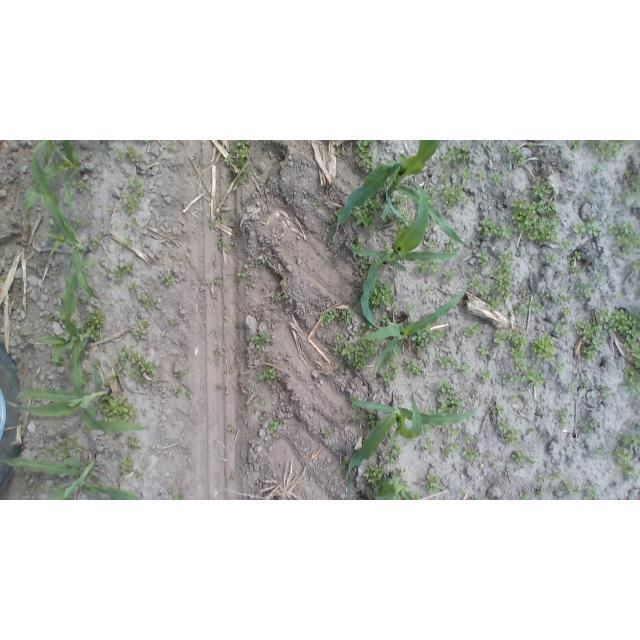Maize: (352, 179, 458, 328), (333, 141, 466, 251), (347, 390, 481, 498), (32, 142, 107, 305), (356, 280, 468, 377), (4, 369, 144, 433), (36, 260, 93, 397), (1, 456, 146, 500), (23, 141, 86, 216), (372, 472, 414, 501)
Weeds: (509, 197, 559, 244), (598, 308, 640, 355), (116, 346, 156, 383), (576, 316, 605, 360), (342, 340, 379, 372), (609, 222, 640, 256), (588, 140, 633, 162), (101, 395, 135, 421), (221, 141, 250, 171), (442, 183, 471, 212), (353, 140, 377, 174), (83, 309, 106, 342), (491, 251, 509, 293), (619, 170, 640, 206), (624, 354, 640, 401), (373, 280, 396, 311), (533, 332, 557, 361), (476, 219, 509, 239), (423, 398, 463, 414), (123, 188, 145, 214), (470, 268, 490, 296), (498, 420, 521, 444), (495, 331, 527, 348), (442, 144, 470, 162), (556, 296, 574, 323), (522, 366, 545, 387), (354, 206, 375, 228), (414, 329, 437, 348), (531, 182, 553, 201), (113, 261, 135, 280), (423, 471, 441, 494), (249, 331, 272, 349), (511, 448, 535, 465), (509, 144, 525, 168), (438, 356, 460, 373), (567, 251, 582, 275), (403, 360, 423, 378), (365, 463, 383, 483), (225, 174, 252, 187), (553, 318, 571, 337), (379, 370, 397, 388), (321, 309, 339, 327), (562, 481, 579, 499), (441, 443, 459, 460), (587, 217, 601, 238), (618, 433, 640, 446), (597, 385, 616, 400), (618, 463, 637, 478), (138, 295, 158, 309), (439, 379, 457, 394), (119, 456, 134, 474), (259, 367, 275, 383), (463, 447, 480, 462), (578, 284, 594, 299), (556, 409, 568, 429), (616, 445, 633, 459), (510, 349, 525, 364), (424, 438, 439, 453), (476, 248, 490, 264), (465, 322, 479, 338), (488, 297, 504, 311), (445, 425, 459, 441), (445, 239, 460, 253), (126, 146, 140, 161), (461, 167, 472, 186), (592, 272, 607, 285), (129, 177, 146, 188), (162, 273, 176, 286), (399, 206, 411, 221), (268, 417, 280, 432), (392, 443, 407, 455), (529, 301, 545, 312), (427, 188, 437, 205), (107, 368, 117, 385), (560, 236, 572, 250), (416, 261, 428, 275), (461, 363, 473, 377), (367, 199, 381, 211), (341, 309, 352, 324), (169, 489, 184, 500), (389, 194, 407, 203), (125, 436, 137, 449), (511, 304, 525, 315), (475, 346, 489, 357), (387, 354, 397, 369), (491, 174, 503, 186), (443, 271, 455, 283), (132, 326, 144, 338), (552, 363, 565, 374), (433, 331, 447, 341), (88, 237, 98, 251), (583, 487, 597, 497), (366, 415, 376, 429), (251, 257, 265, 267), (117, 149, 126, 164), (405, 304, 416, 316), (588, 418, 600, 429), (396, 467, 409, 477), (321, 427, 331, 440), (575, 223, 586, 234), (431, 261, 442, 272), (80, 351, 91, 362), (545, 252, 555, 264), (128, 368, 138, 380), (551, 472, 564, 481), (132, 218, 141, 231), (330, 253, 338, 267), (476, 169, 486, 180), (437, 172, 448, 182), (509, 373, 519, 384), (465, 434, 475, 445), (77, 182, 87, 193), (139, 319, 149, 330), (386, 453, 397, 463), (591, 166, 602, 176), (632, 258, 640, 271), (561, 306, 571, 316), (426, 242, 437, 251), (519, 287, 530, 296), (583, 379, 592, 390), (482, 369, 491, 380), (61, 450, 72, 459), (75, 216, 86, 225), (520, 492, 531, 501), (130, 282, 139, 293), (582, 191, 593, 200), (217, 238, 224, 251), (570, 383, 579, 393), (331, 346, 340, 356), (379, 316, 390, 324), (535, 488, 543, 499), (331, 211, 339, 222), (261, 414, 268, 426), (582, 426, 591, 435), (228, 425, 237, 434), (571, 141, 580, 150), (614, 291, 622, 301), (83, 371, 91, 381), (174, 388, 182, 398), (333, 333, 343, 341), (413, 494, 426, 500), (361, 259, 368, 270), (342, 456, 349, 467), (514, 395, 523, 403), (80, 296, 88, 305), (422, 425, 430, 434), (125, 238, 134, 246), (170, 318, 179, 326), (94, 359, 101, 369), (187, 390, 193, 401), (497, 406, 505, 414), (177, 371, 184, 380), (363, 323, 373, 329), (71, 435, 78, 443), (595, 447, 602, 455), (333, 150, 341, 157), (213, 277, 221, 284), (281, 281, 288, 289), (238, 273, 245, 280), (61, 438, 67, 446), (277, 292, 283, 300), (424, 290, 433, 295), (210, 219, 215, 228), (99, 345, 105, 352), (78, 447, 85, 453), (141, 410, 148, 416), (530, 429, 537, 435), (540, 475, 547, 481), (492, 461, 498, 468), (313, 203, 319, 210), (528, 146, 536, 151), (82, 428, 90, 433), (354, 415, 359, 423), (400, 396, 405, 404), (545, 290, 551, 296), (217, 383, 223, 389), (119, 243, 125, 249), (297, 259, 303, 265), (490, 144, 497, 149), (138, 378, 145, 383), (49, 313, 54, 320), (487, 452, 494, 457), (268, 383, 273, 390), (515, 365, 521, 370), (69, 444, 75, 449), (55, 443, 60, 449), (230, 369, 235, 374), (232, 471, 235, 479), (143, 141, 151, 144), (260, 401, 264, 406), (607, 453, 612, 457), (460, 490, 464, 495)
